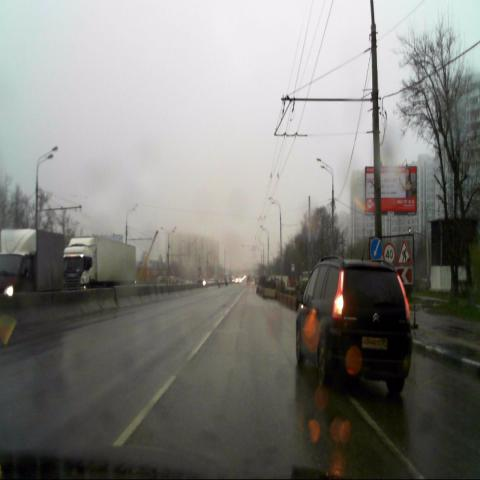4_2_2: (371, 238, 382, 259)
